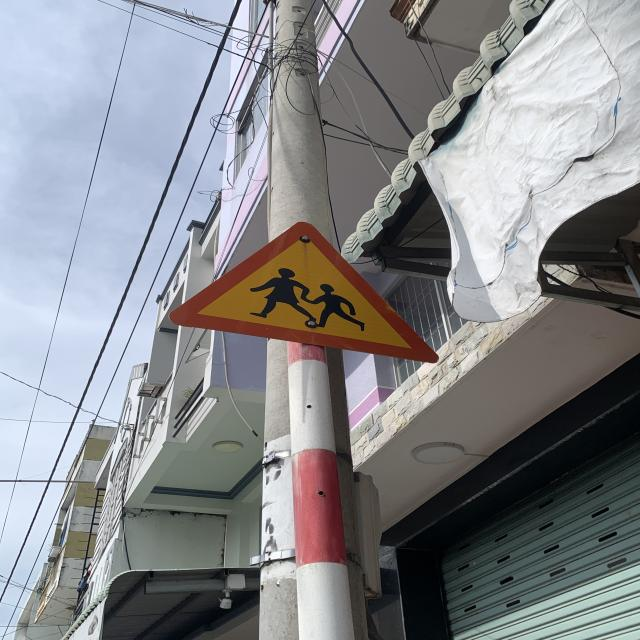Vong_Xuyen: (170, 220, 441, 364)
